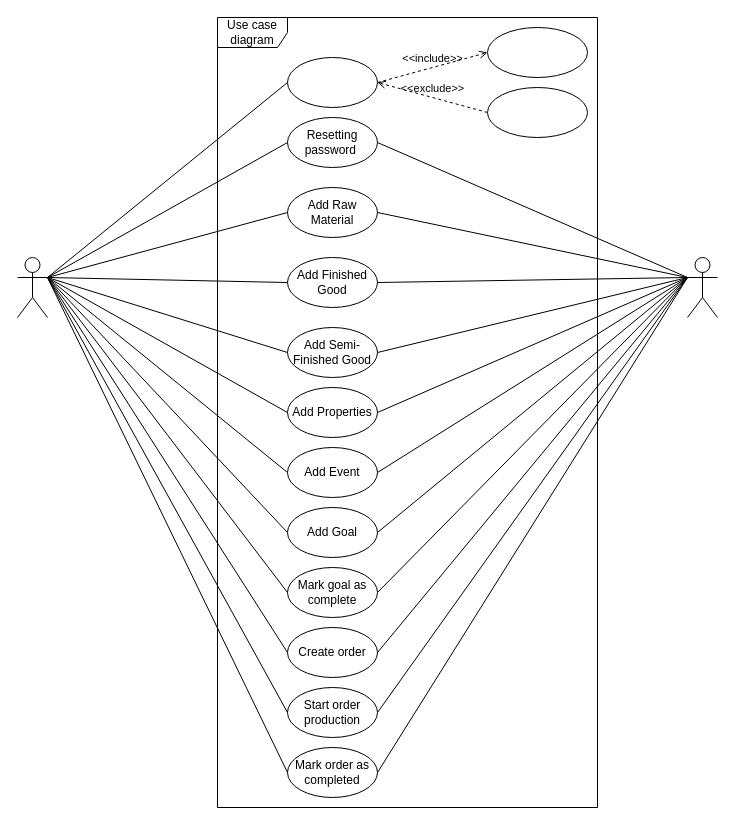
Some shapes in this 740 by 825 pixel diagram are drawn without their labels. Each missing label, with the centre of its shape:
"Display Login Error" goes at [537,112].
"Logging in" goes at [332,82].
"System" goes at [702,287].
"User" goes at [32,287].
"Verify Password" goes at [537,52].
